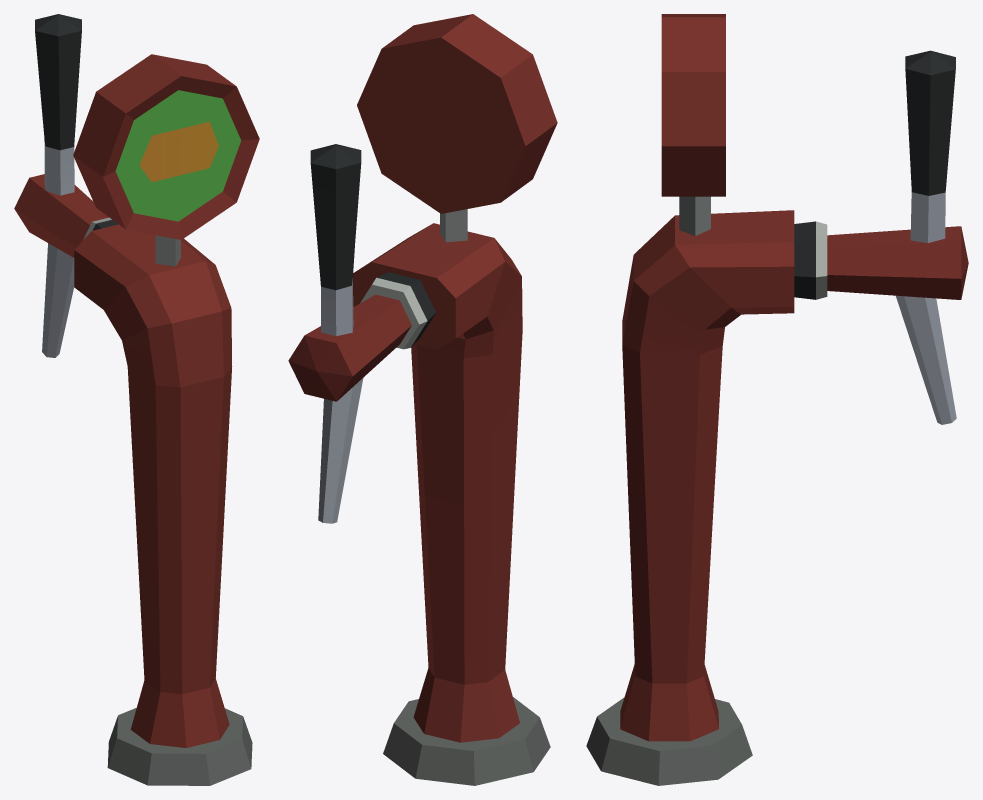
The model's file is SM_Prop_Bar_Tap_01.obj.
3 views of the same model, side by side, from view 1: azimuth 30°, elevation 25°; view 2: azimuth 150°, elevation 25°; view 3: azimuth 270°, elevation 25° (orthographic). The views are drawn at different scales.
Parts seen in each view (by area): view 1: SM_Prop_Bar_Tap_01_0; view 2: SM_Prop_Bar_Tap_01_0; view 3: SM_Prop_Bar_Tap_01_0.
Boxes of the visible parts, x1,y1,x2,y2 form: SM_Prop_Bar_Tap_01_0: (14, 14, 259, 785); SM_Prop_Bar_Tap_01_0: (288, 14, 557, 785); SM_Prop_Bar_Tap_01_0: (586, 14, 968, 785).
Bounding box in the file's own units: 0.1385 × 0.5762 × 0.2727.
1 material, 1 textured.
